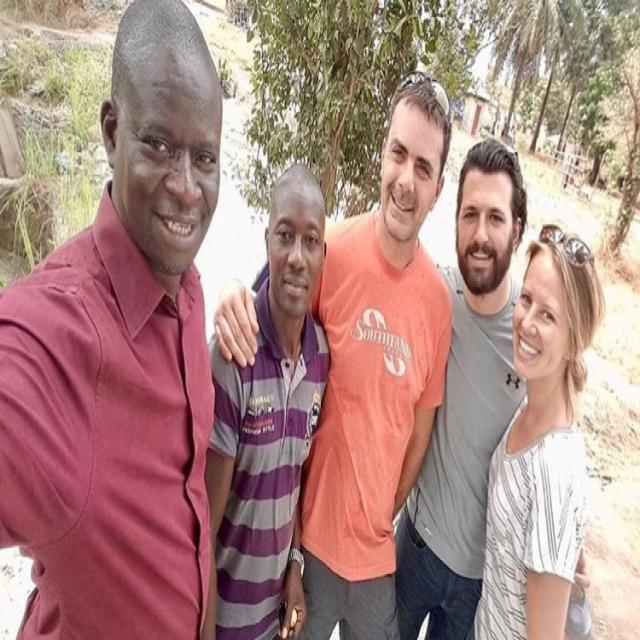body: (0, 0, 228, 638), (211, 64, 455, 638), (394, 135, 592, 640), (204, 160, 334, 638), (465, 216, 610, 638)
